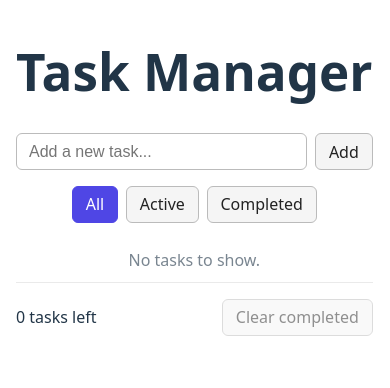
Scenario: App › filters active and completed tasks
The width and height of the screenshot is (390, 388).
In the field labelled "new task": (162, 152) [16,133,307,170], type "Open task"
Click the button "Add": (344, 152) [315,133,373,170]
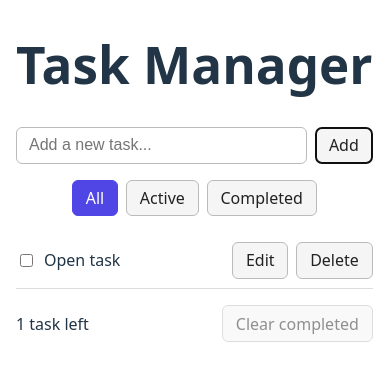
In the field labelled "new task": (162, 145) [16,127,307,164], type "Done task"
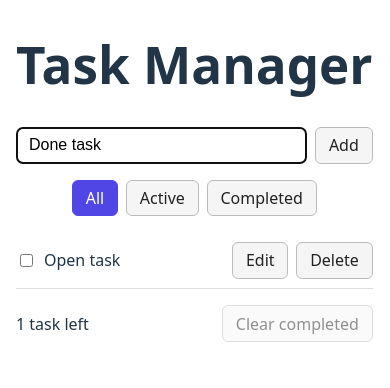
Click the button "Add": (344, 145) [315,127,373,164]
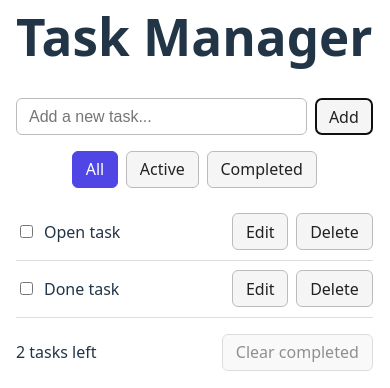
Click the checkbox named "Mark \"Done task\" as completed": (26, 289) [20,282,33,295]
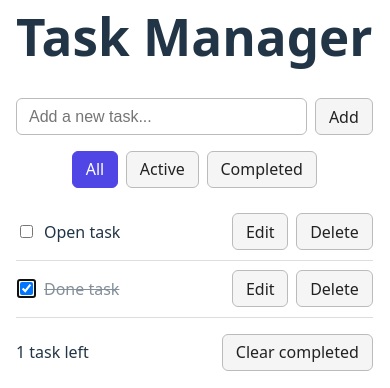
Click the button "Active": (162, 170) [126,151,199,188]
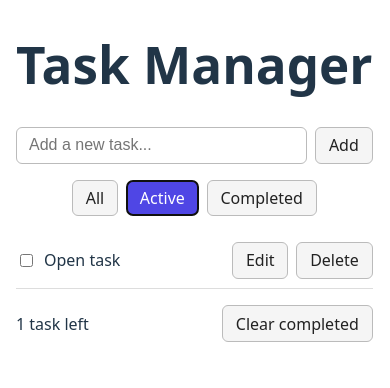
Expected: the text "Open task" is shown, [44,249,120,271]
Expected: the text "Done task" is gone
Click the button "Completed": (262, 198) [207,180,317,216]
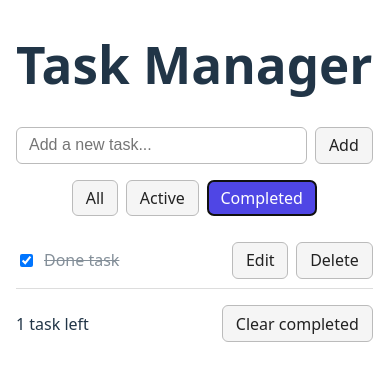
Expected: the text "Done task" is shown, [44,249,119,271]
Expected: the text "Open task" is gone
